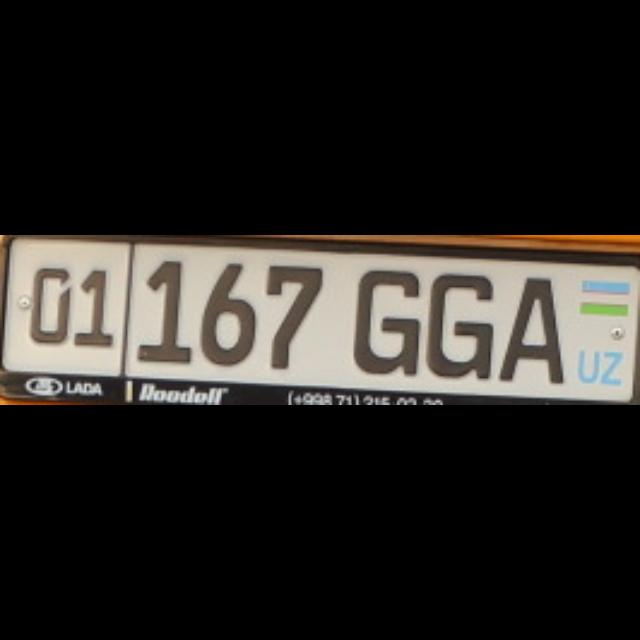0: (29, 266, 70, 342)
1: (134, 260, 190, 362), (72, 266, 110, 346)
6: (197, 259, 255, 365)
7: (262, 264, 320, 368)
A: (496, 274, 560, 384)
G: (424, 271, 491, 377), (352, 269, 418, 375)
